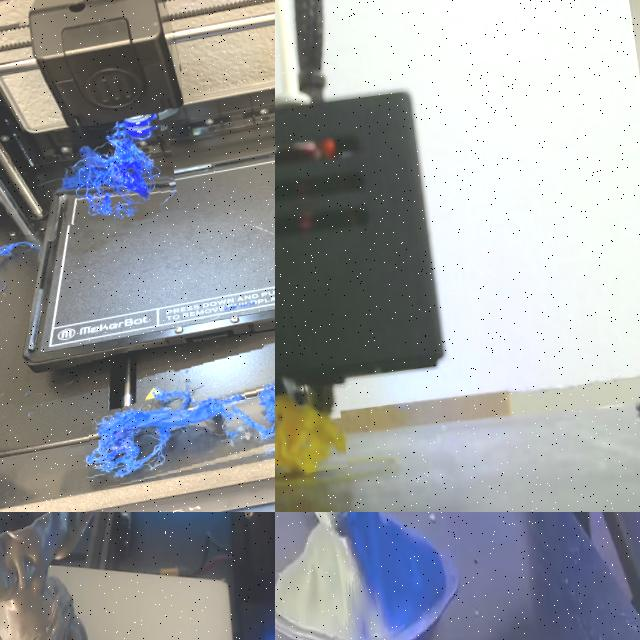spaghetti: (86, 383, 275, 479), (60, 124, 168, 220), (275, 398, 346, 473), (0, 241, 41, 271), (0, 274, 7, 296)
